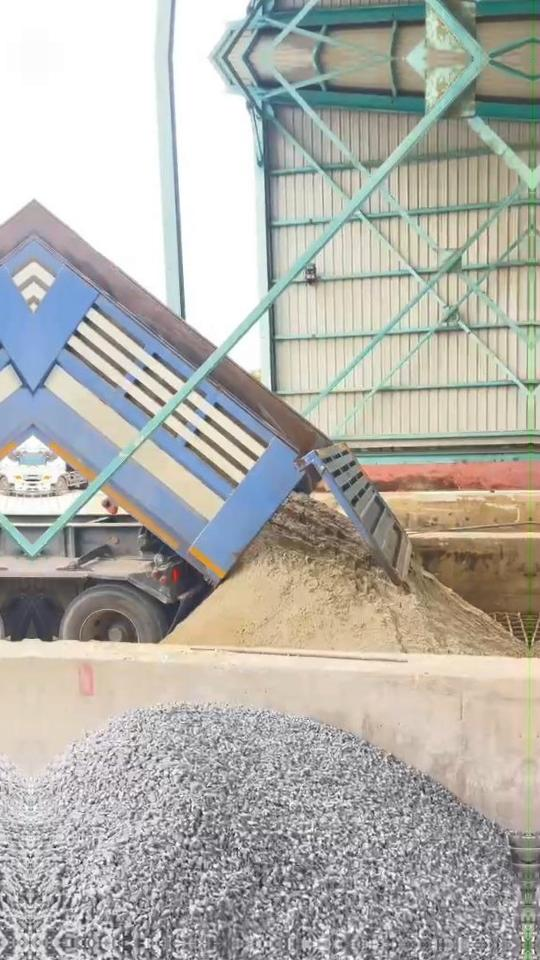gravel: (31, 705, 523, 945)
sand: (165, 494, 525, 656)
